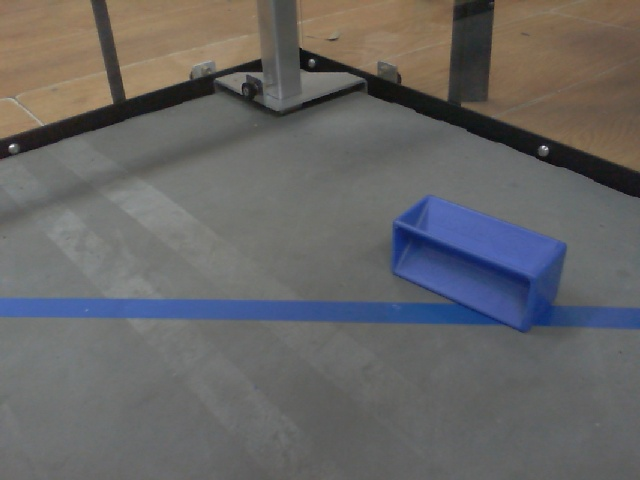BlueSample: (385, 192, 571, 348)
